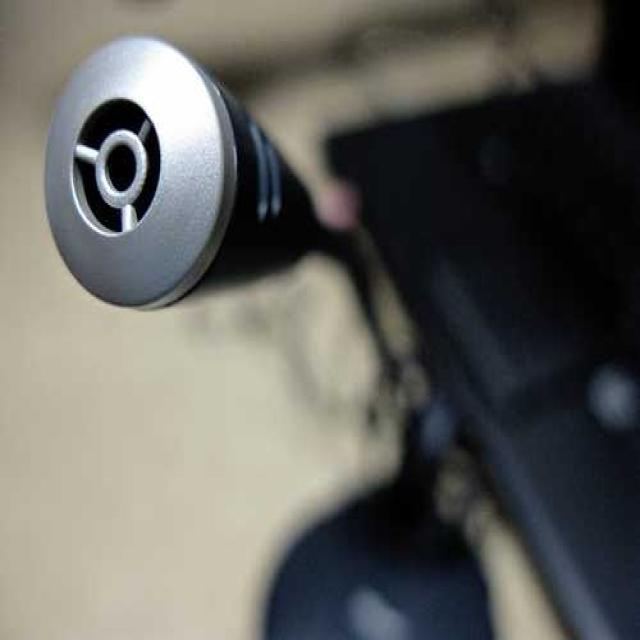microphone: (33, 18, 393, 360)
